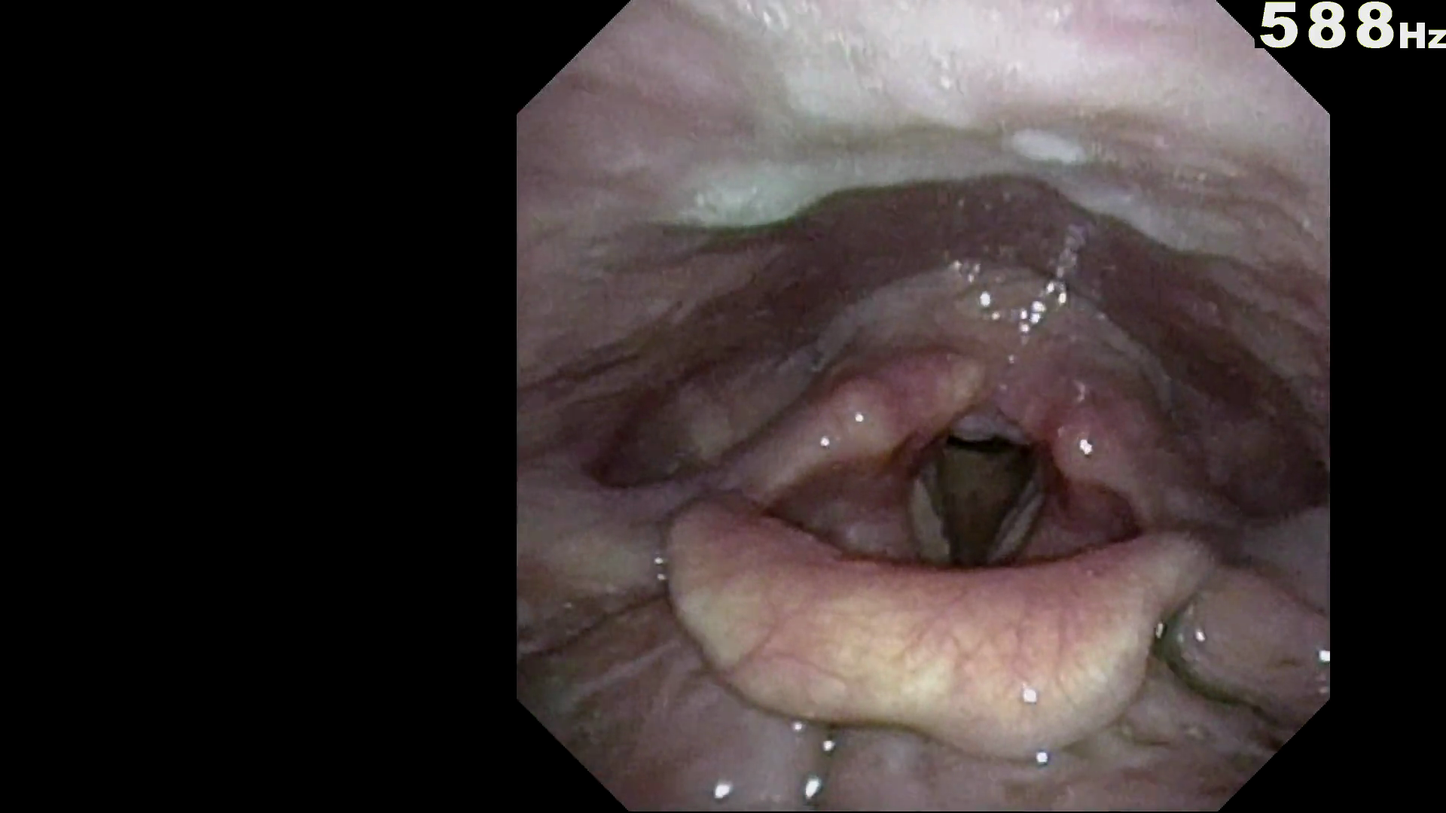epiglottis: (652, 527, 1196, 717)
trachea: (907, 424, 1032, 577)
